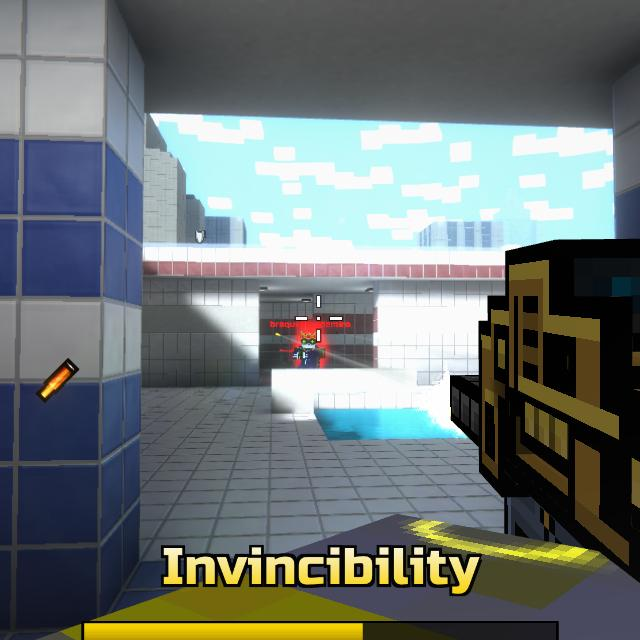Enemy: (294, 334, 327, 369)
